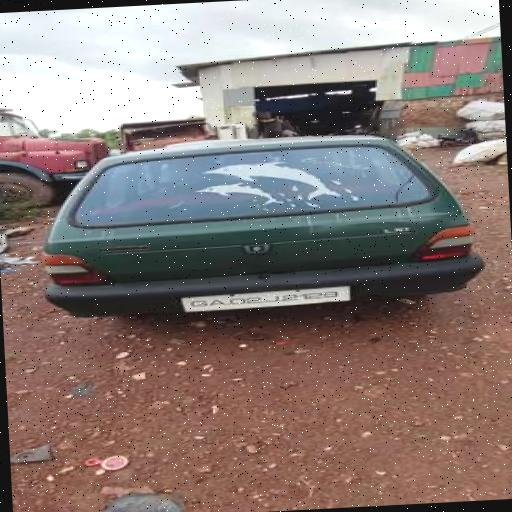license_plate`: (178, 285, 348, 310)
